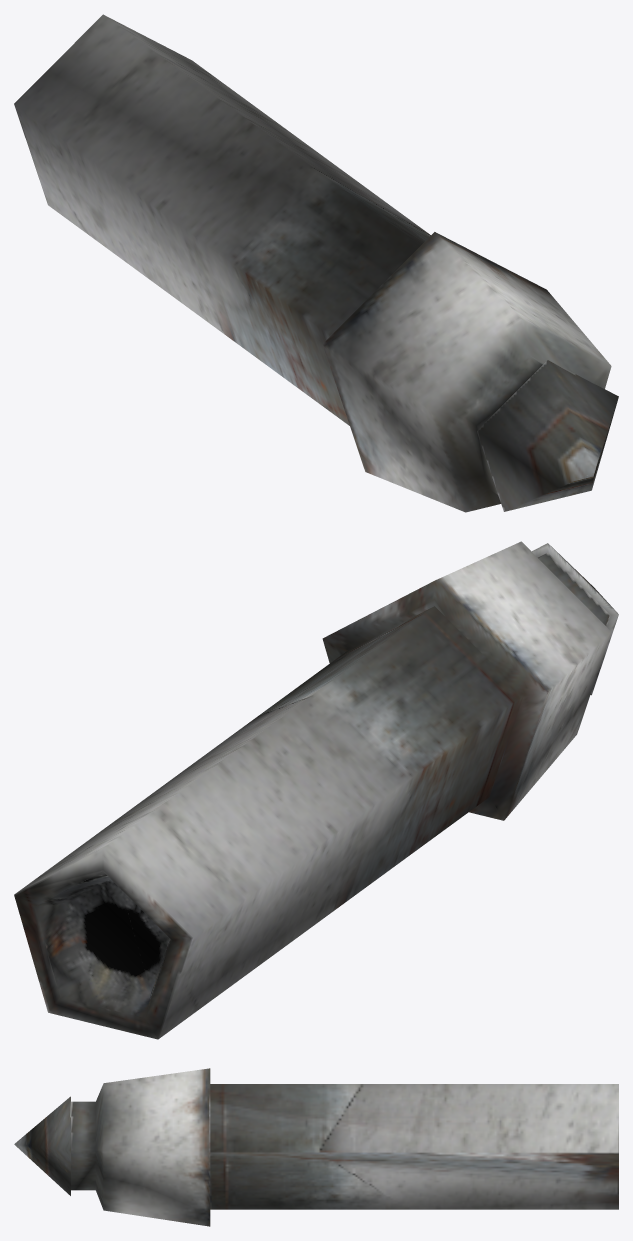
The model's file is Missilev2.1.fbx.
3 views of the same model, one above another, from view 1: azimuth 30°, elevation 25°; view 2: azimuth 150°, elevation 25°; view 3: azimuth 270°, elevation 25° (orthographic). The views are drawn at different scales.
Visible parts, largest first — view 1: Missle; view 2: Missle; view 3: Missle.
Part boxes in pixels (left/top/right/bottom): Missle: left=14, top=14, right=618, bottom=512; Missle: left=14, top=541, right=618, bottom=1039; Missle: left=14, top=1068, right=618, bottom=1226.
Bounding box in the file's own units: 0.761 × 0.7238 × 2.88.
